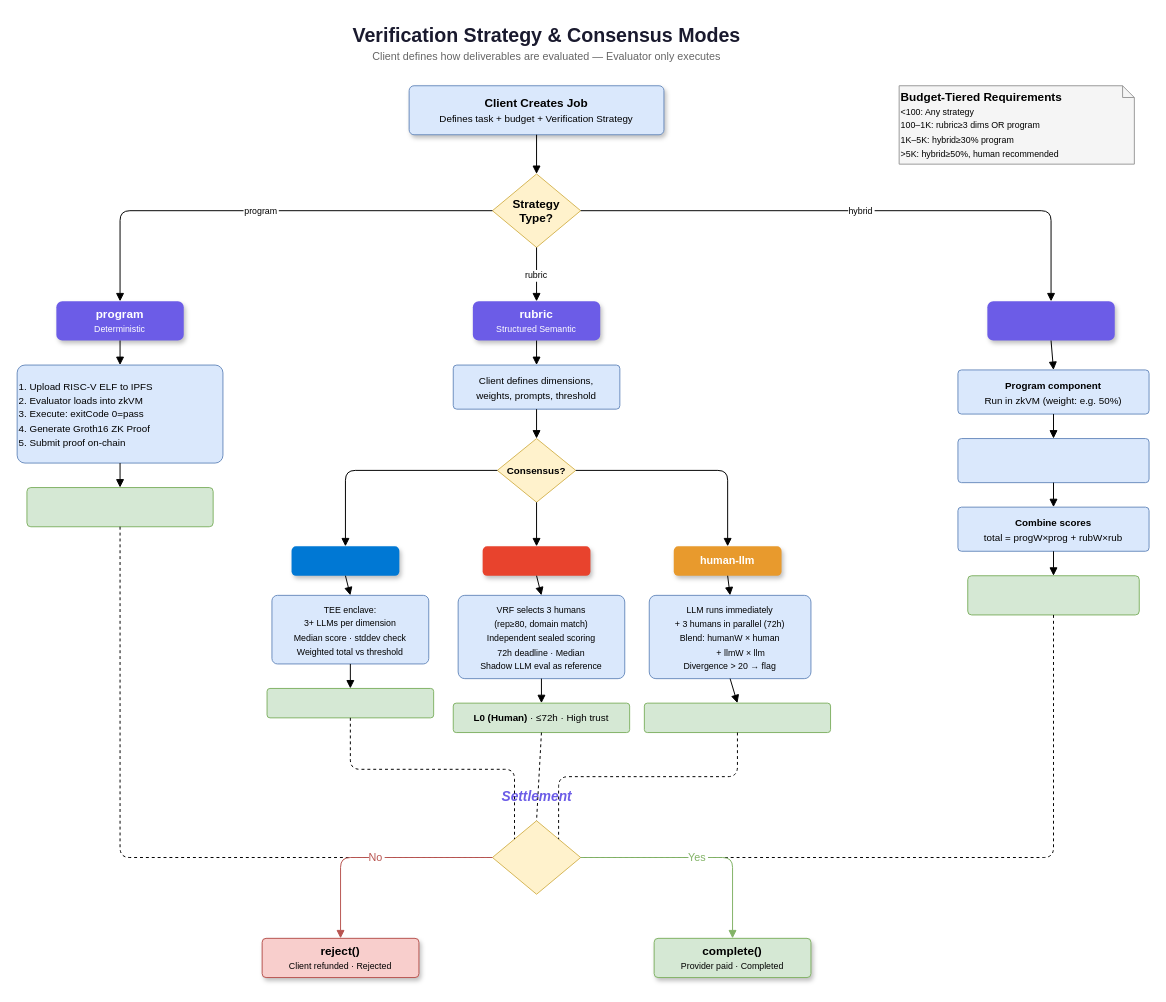
This 1166x1002 diagram has some shape labels left out. The centre of each missing label's shape, as x and y in pixels:
"human" belongs at [537,562].
"hybrid Combined" belongs at [1051,322].
"L0+L1 Blended · ≤72h · Medium" belongs at [737,717].
"L1 (TEE) · Minutes · Low cost" belongs at [350,702].
"Level: L2 (zkVM) Mathematical proof — trustless" belongs at [119,507].
"Level: L3 (TEE+zkVM) Maximum verifiable surface" belongs at [1053,595].
"multi-llm" belongs at [346,562].
"Rubric component Via consensus mode (weight: e.g. 50%)" belongs at [1053,460].
"Score ≥ threshold?" belongs at [536,857].
